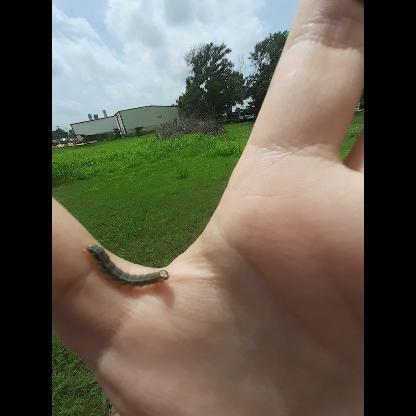Fall Armyworm Larvae: (80, 242, 170, 292)
